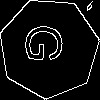G: (24, 23, 73, 65)
